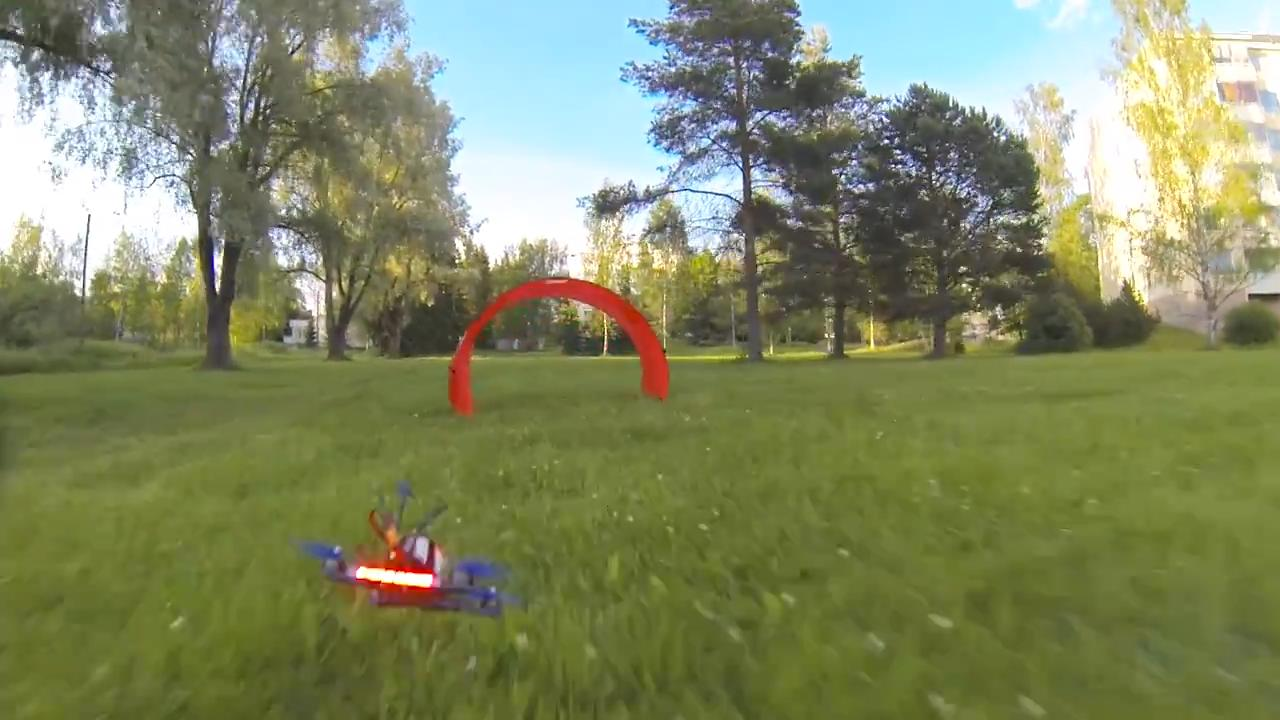gate: (443, 274, 679, 419)
